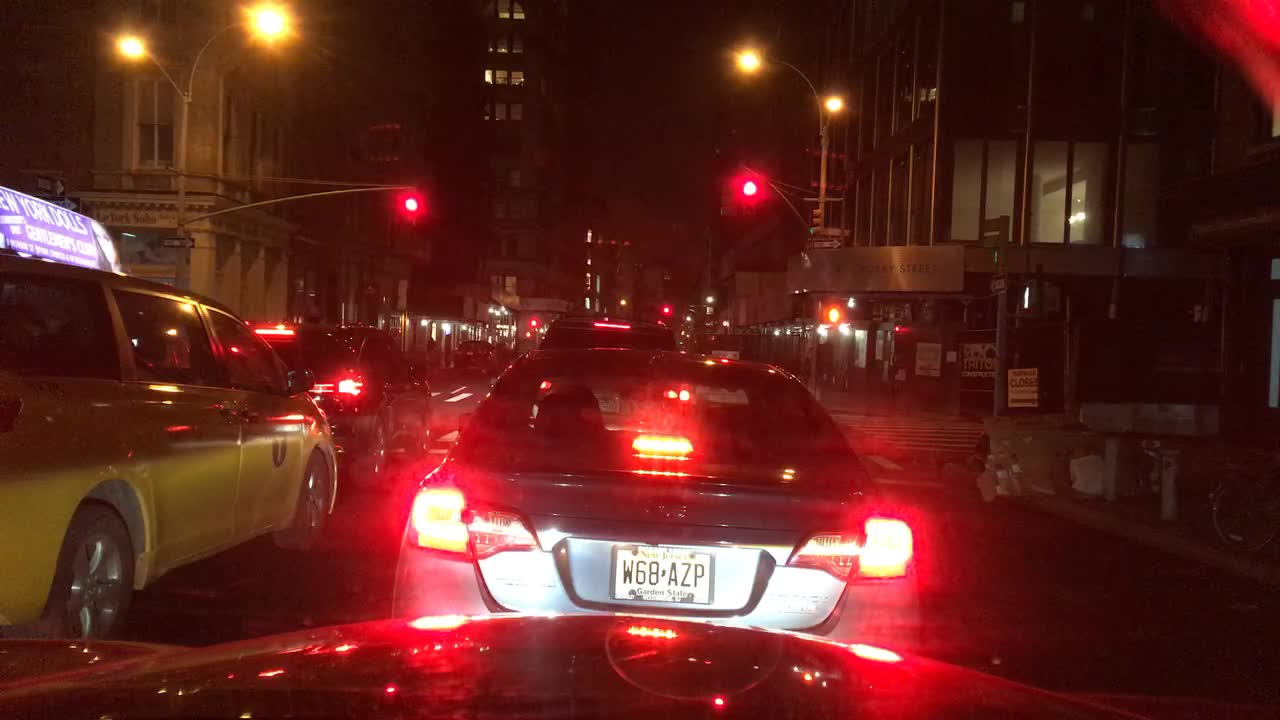bike: (1199, 450, 1279, 555)
car: (384, 346, 928, 654), (0, 185, 342, 645), (240, 318, 430, 488), (540, 312, 681, 355), (447, 338, 495, 376)
traffic light: (1016, 283, 1063, 310), (719, 175, 732, 217), (808, 205, 824, 237), (742, 177, 756, 210), (824, 303, 843, 324), (525, 315, 539, 338), (405, 198, 416, 223), (659, 304, 671, 324)
traffic sign: (40, 194, 85, 211), (805, 236, 842, 250), (987, 271, 1008, 295), (34, 176, 67, 191), (159, 237, 197, 249), (983, 218, 1003, 237), (979, 234, 1003, 249)
